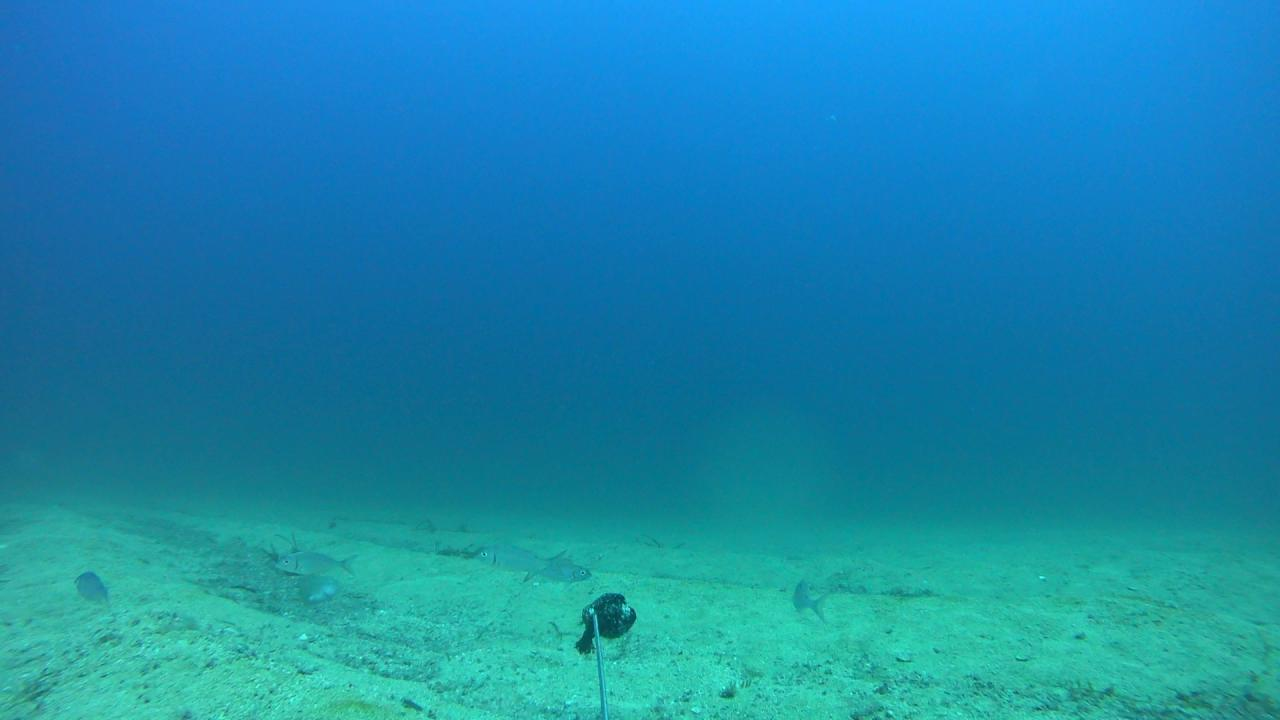pagellus: (274, 550, 356, 573), (71, 567, 111, 606)
